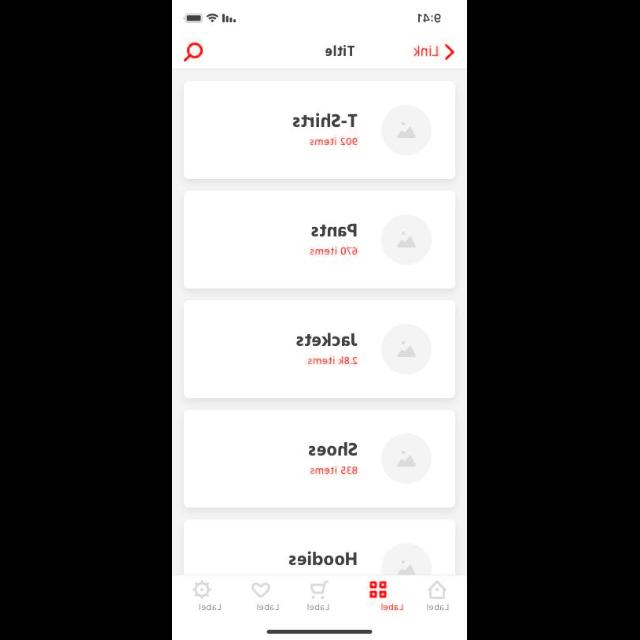icon: (184, 43, 204, 63), (428, 580, 448, 600), (311, 580, 331, 600), (192, 580, 212, 600), (369, 581, 388, 599), (252, 582, 272, 598), (444, 44, 456, 61)
image: (381, 214, 433, 266), (382, 104, 432, 156), (382, 324, 432, 376), (382, 433, 432, 485), (381, 542, 433, 576)
panel: (184, 81, 456, 180), (184, 410, 456, 508), (184, 301, 456, 399), (184, 191, 456, 289), (184, 520, 456, 574)
text: (289, 550, 359, 566), (296, 332, 358, 348), (292, 114, 358, 128), (308, 442, 358, 456), (310, 224, 358, 238), (307, 356, 358, 366), (310, 246, 358, 256), (310, 465, 358, 475), (310, 138, 358, 146), (326, 46, 354, 58), (414, 46, 438, 58), (307, 602, 331, 612), (426, 602, 450, 612), (258, 602, 280, 612), (382, 602, 404, 612), (199, 603, 221, 611)
uppertaskbar: (183, 13, 443, 24)
